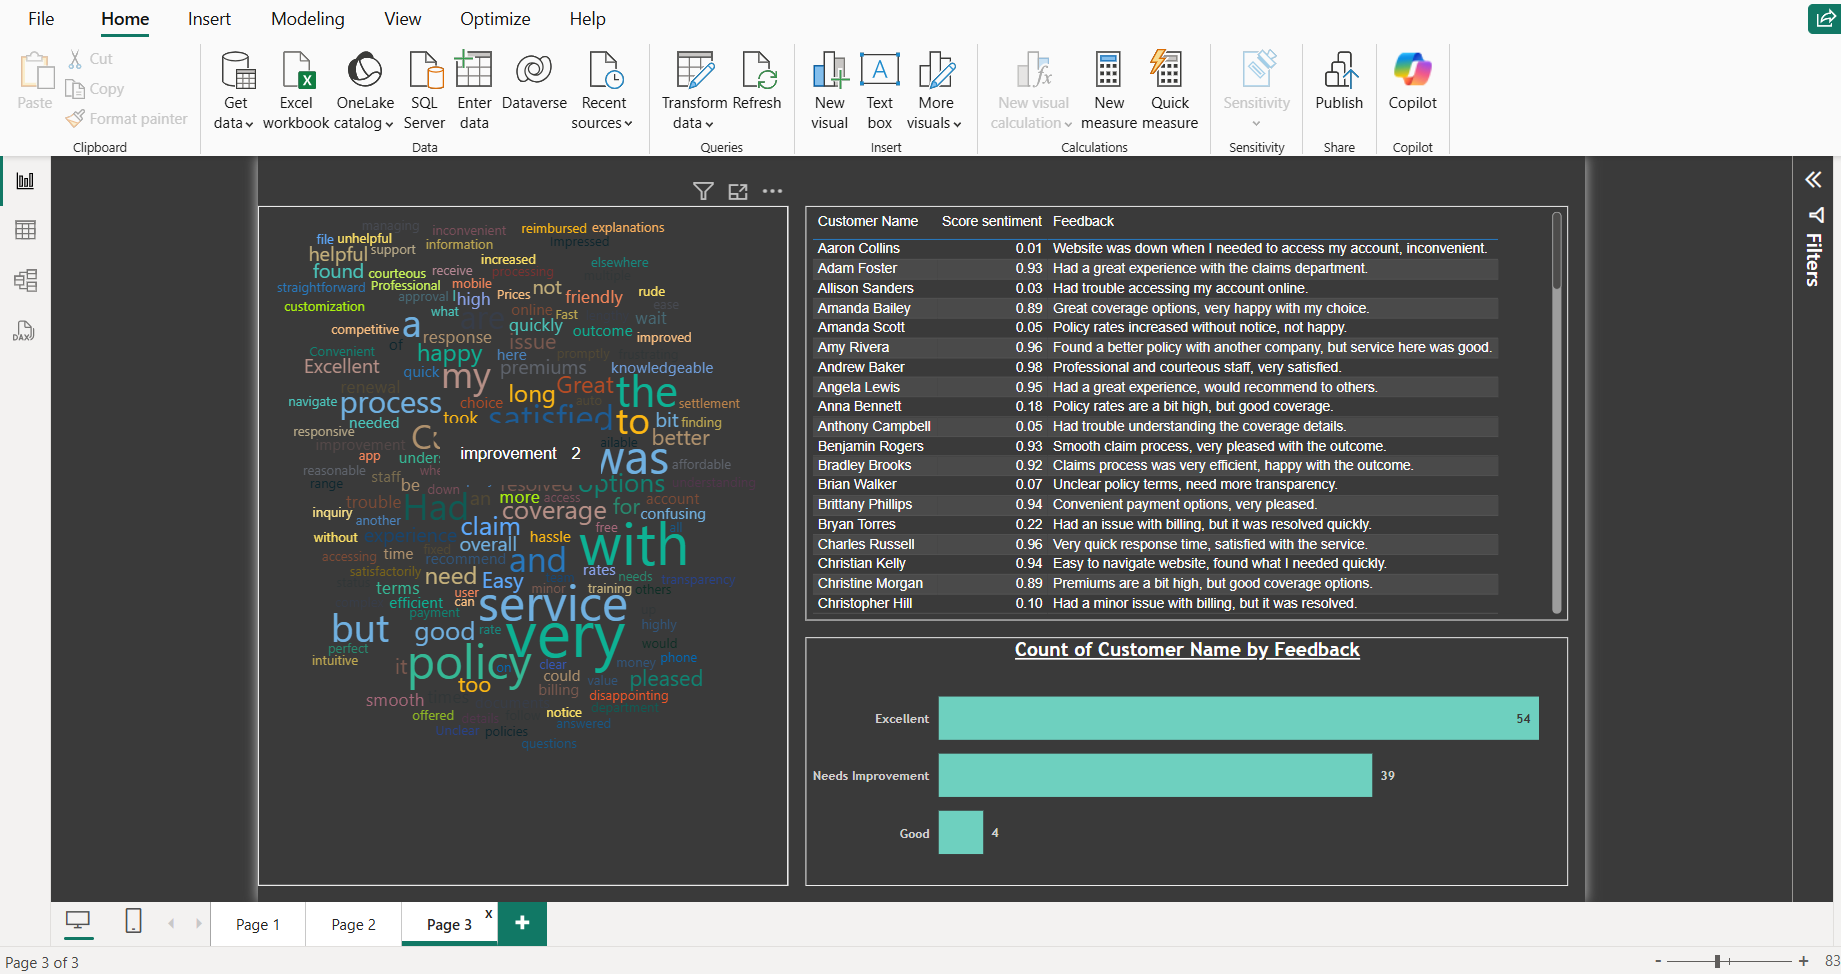

What the dashboard file says about the page in this screenshot:
{"tool":"powerbi","page":{"name":"Page 3","canvas":[1280,720],"ordinal":2},"visuals":[{"type":"WordCloud1447959067750","fields":{"Category":["Sheet1.Feedback"],"Values":["Sheet1.Feedback"]},"box":[0,48,512,656],"z":0},{"type":"barChart","title":"Count of Customer Name by Feedback","fields":{"Category":["Sheet1.Good/Improvement"],"Y":["Sheet1.Customer Name"]},"box":[528,464,736,240],"z":1000},{"type":"tableEx","fields":{"Values":["Sheet1.Customer Name","Sheet1.Score sentiment","Sheet1.Feedback"]},"box":[528,48,736,400],"z":2000}]}

Visuals, with their boxes on the page's 1280x720 design canvas (x1, y1, x2, y2). These are canvas units, not pixel positions in the 1841x974 screenshot, which may show the page scaled, cropped or inside an application window:
WordCloud1447959067750 - Sheet1.Feedback x Sheet1.Feedback: (left=0, top=48, right=512, bottom=704)
"Count of Customer Name by Feedback" barChart: (left=528, top=464, right=1264, bottom=704)
tableEx - Sheet1.Customer Name x Sheet1.Score sentiment: (left=528, top=48, right=1264, bottom=448)
